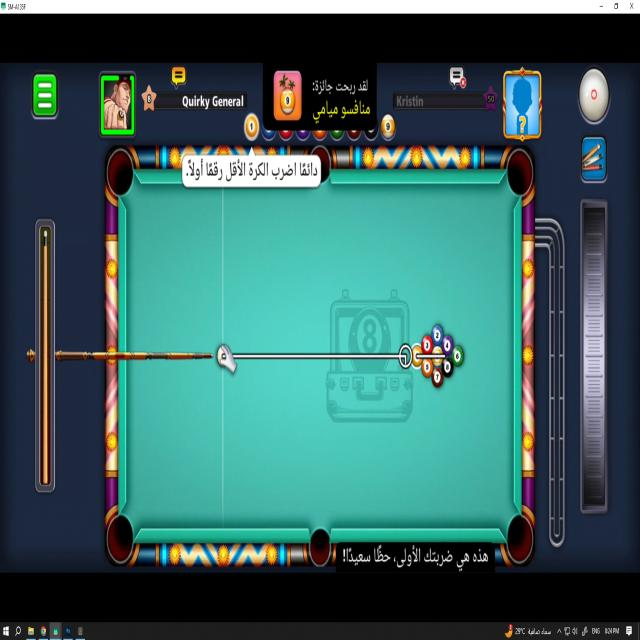object_ball: (412, 344, 422, 369), (421, 358, 433, 378), (431, 367, 443, 387), (442, 336, 454, 356), (421, 335, 433, 354), (452, 346, 463, 366), (442, 357, 453, 377), (432, 325, 442, 346), (432, 347, 442, 354)
white_cue_ball: (217, 345, 230, 370)
